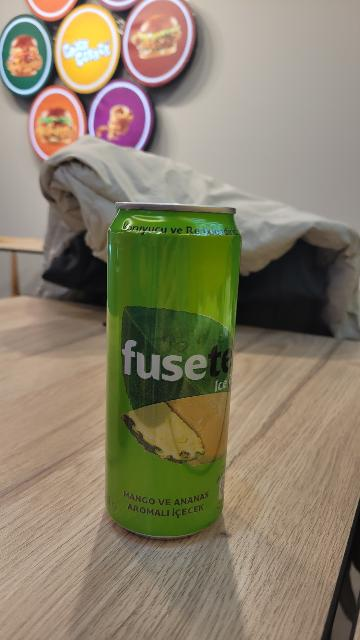Metal: (103, 199, 234, 541)
